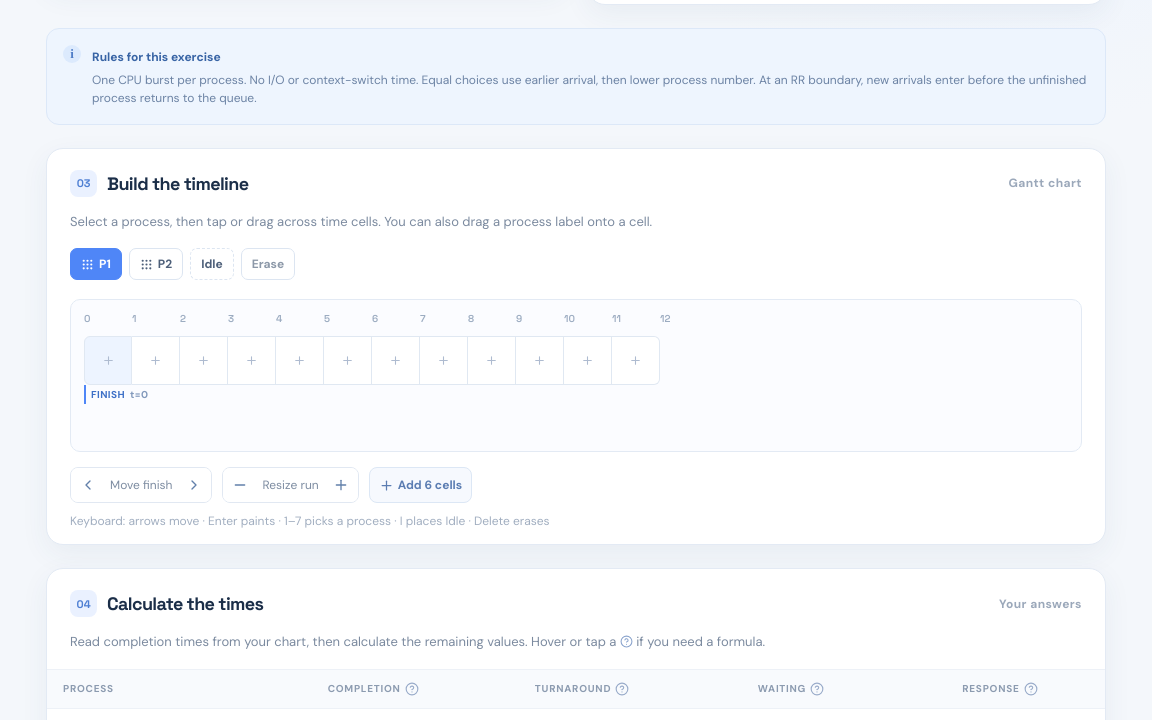
settings, saving, and elapsed time › confirms New Problem and difficulty changes before discarding an unfinished attempt
The width and height of the screenshot is (1152, 720).
(page scrolled)
Click the button named "Time 0 to 1: empty" at (108, 361), box [84,336,132,385]
(page scrolled)
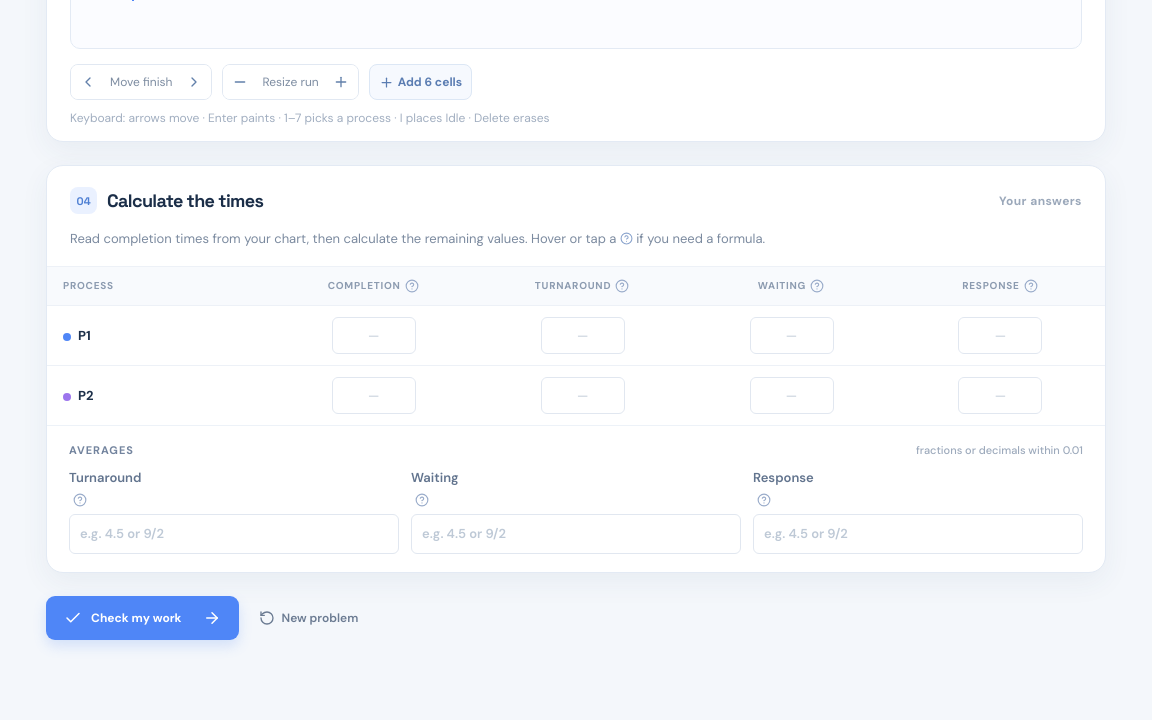
Click the button "New problem" at (308, 618), box [253,609,364,627]
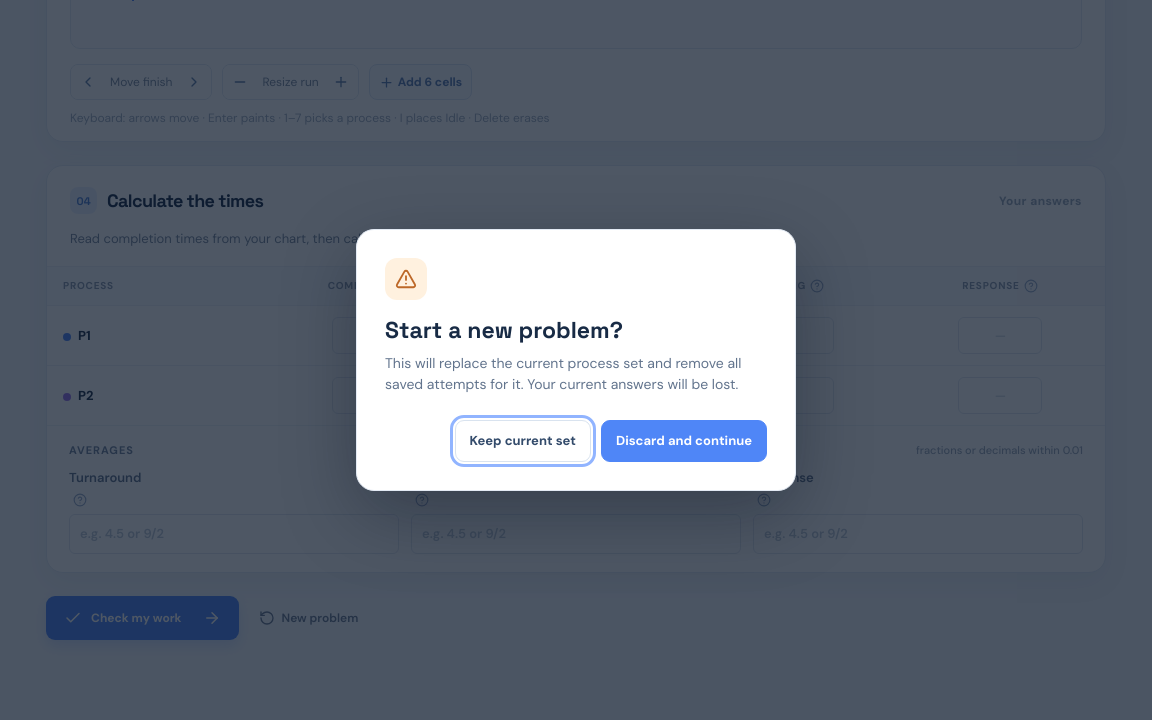
Result: the dialog is shown at [356,229,796,491]
Click the button "Keep current set" at (523, 441), box [454,420,591,462]
(page scrolled)
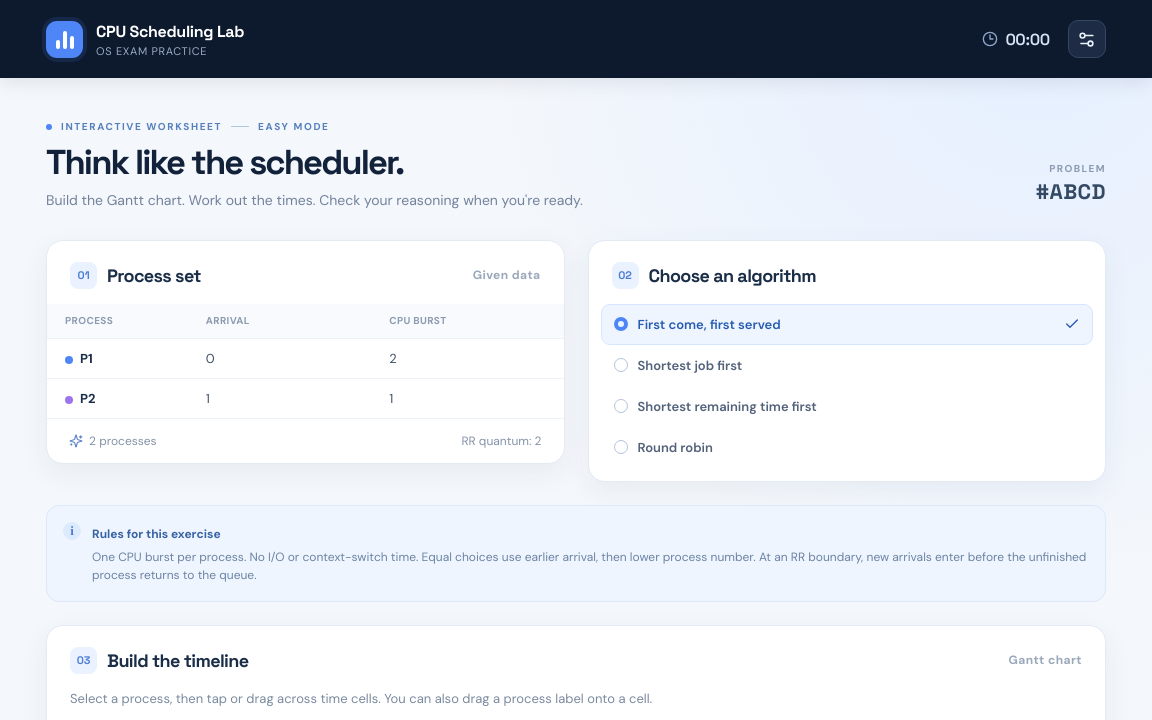
Expected: the text "#ABCD" is shown, [1036,178,1106,205]
Click the button named "Open settings" at (1087, 39), box [1068,20,1106,58]
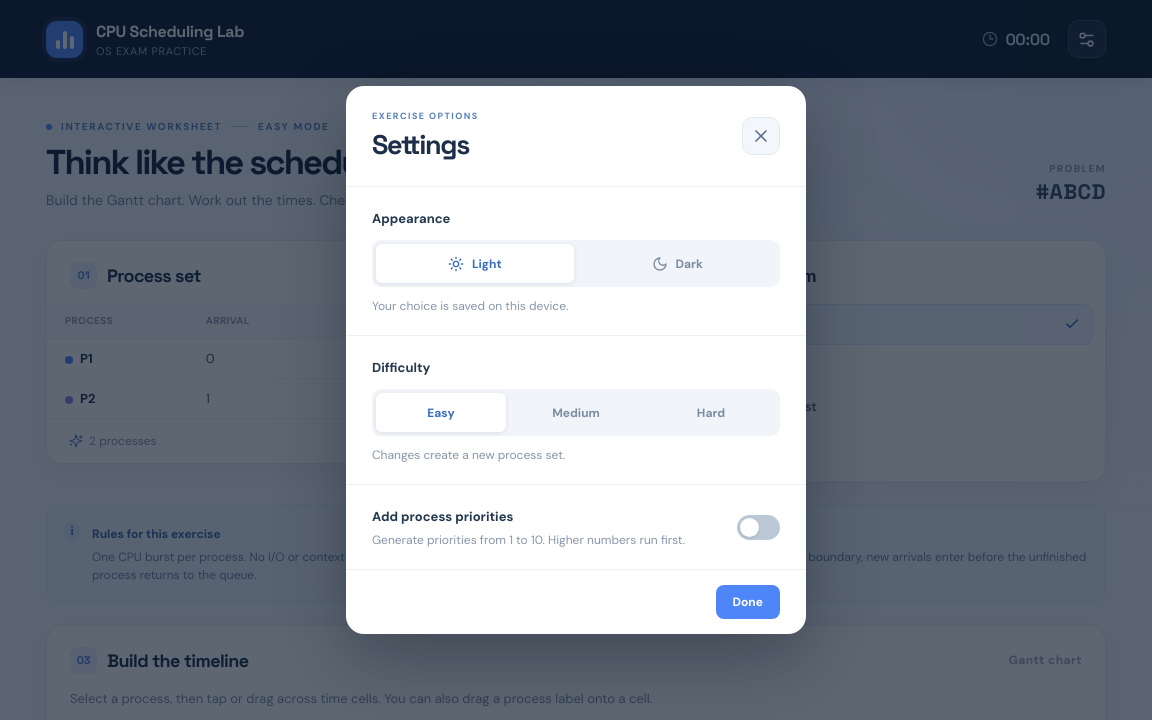
Click the button "hard" at (711, 412), box [646,393,776,432]
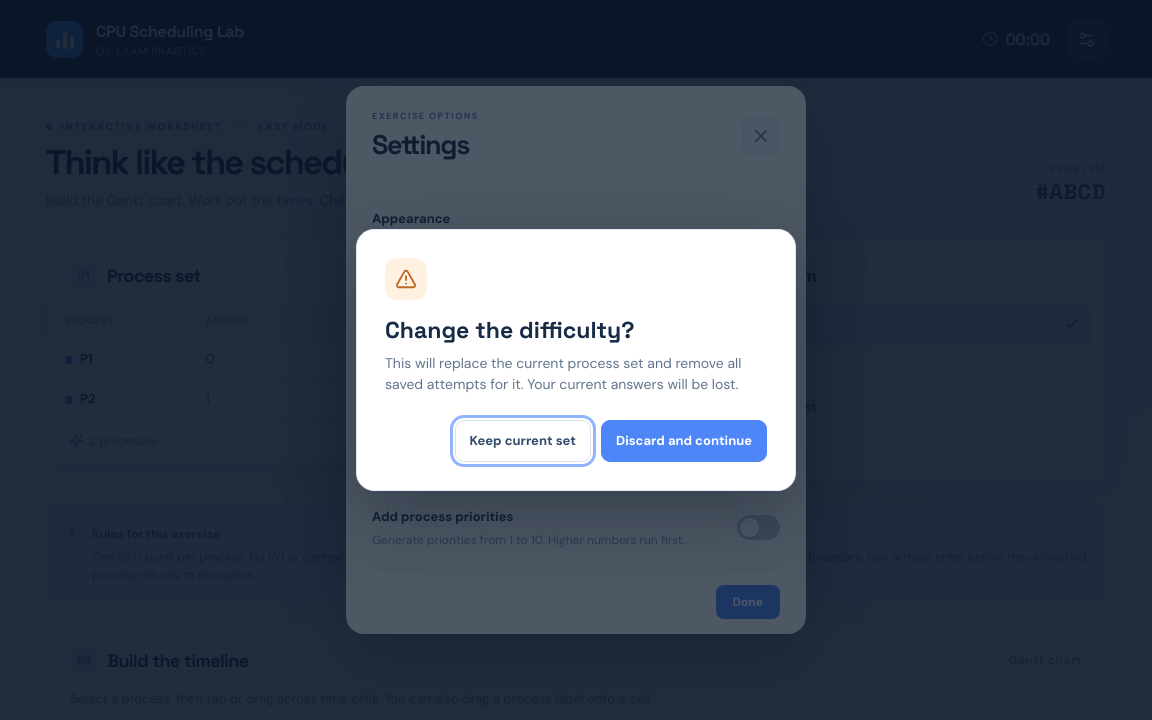
Result: the dialog is shown at [356,229,796,491]
Click the button "Discard and continue" at (684, 441), box [601,420,767,462]
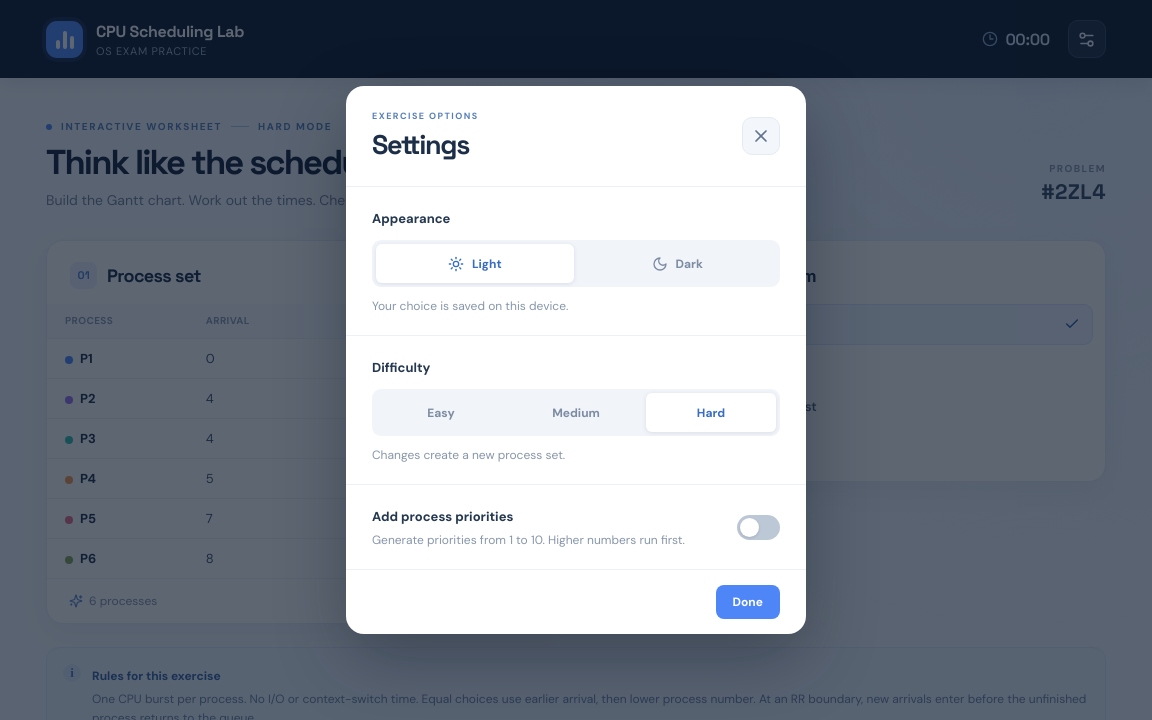
Result: the dialog "Settings" is shown at [346,86,806,634]
Result: the text "#ABCD" is gone
